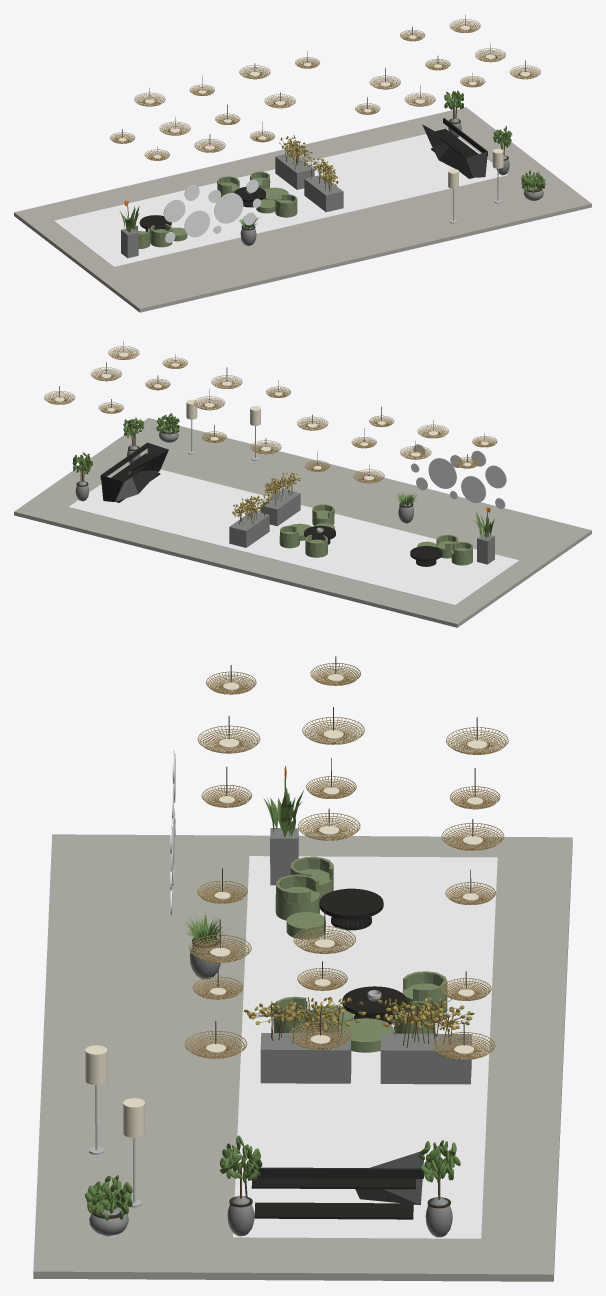
3 renders of one model, top to bottom at view 1: azimuth 30°, elevation 25°; view 2: azimuth 150°, elevation 25°; view 3: azimuth 270°, elevation 25°, orthographic. The views are drawn at different scales.
Parts seen in each view (by area): view 1: floor, carpet_main, planter_center_right_container, planter_center_left_container, round_mirror_00, round_mirror_01, reception_front_fold_right, planter_front_tall_container, reception_recessed_counter, reception_front_fold_left, reception_visible_end_right, round_mirror_02; view 2: floor, carpet_main, planter_center_left_container, planter_center_right_container, round_mirror_00, reception_front_fold_right, round_mirror_01, planter_front_tall_container, reception_recessed_counter, table_front_top, reception_visible_end_left, round_mirror_02; view 3: floor, carpet_main, planter_center_left_container, planter_center_right_container, reception_hidden_base_inferred, reception_rear_rim_inferred, reception_recessed_counter, table_front_top, reception_front_fold_left, table_middle_top, planter_front_tall_container, seat_middle_center_seat (+24 smaller).
Boxes of the visible parts, <box> form: floor: <box>14,107,591,312</box>; carpet_main: <box>54,129,507,266</box>; planter_center_right_container: <box>304,175,343,212</box>; planter_center_left_container: <box>275,153,314,189</box>; round_mirror_00: <box>214,193,243,223</box>; round_mirror_01: <box>184,210,209,237</box>; reception_front_fold_right: <box>439,142,472,177</box>; planter_front_tall_container: <box>121,228,138,258</box>; reception_recessed_counter: <box>435,129,478,157</box>; reception_front_fold_left: <box>422,124,452,159</box>; reception_visible_end_right: <box>466,152,487,177</box>; round_mirror_02: <box>163,199,185,222</box>; floor: <box>14,418,591,627</box>; carpet_main: <box>68,464,518,605</box>; planter_center_left_container: <box>229,511,269,547</box>; planter_center_right_container: <box>260,489,300,526</box>; round_mirror_00: <box>428,458,456,488</box>; reception_front_fold_right: <box>130,450,168,493</box>; round_mirror_01: <box>461,476,486,502</box>; planter_front_tall_container: <box>477,533,494,564</box>; reception_recessed_counter: <box>111,453,156,481</box>; table_front_top: <box>410,546,442,561</box>; reception_visible_end_left: <box>101,475,122,501</box>; round_mirror_02: <box>485,465,506,488</box>; floor: <box>33,834,572,1281</box>; carpet_main: <box>233,856,497,1239</box>; planter_center_left_container: <box>380,1033,471,1084</box>; planter_center_right_container: <box>260,1032,351,1083</box>; reception_hidden_base_inferred: <box>254,1202,413,1219</box>; reception_rear_rim_inferred: <box>243,1167,423,1178</box>; reception_recessed_counter: <box>251,1178,416,1189</box>; table_front_top: <box>319,888,383,919</box>; reception_front_fold_left: <box>355,1151,424,1205</box>; table_middle_top: <box>342,986,406,1017</box>; planter_front_tall_container: <box>270,828,298,885</box>; seat_middle_center_seat: <box>339,1018,393,1052</box>.
Size of the model in its own units: 26.03 by 6.57 by 13.47.
